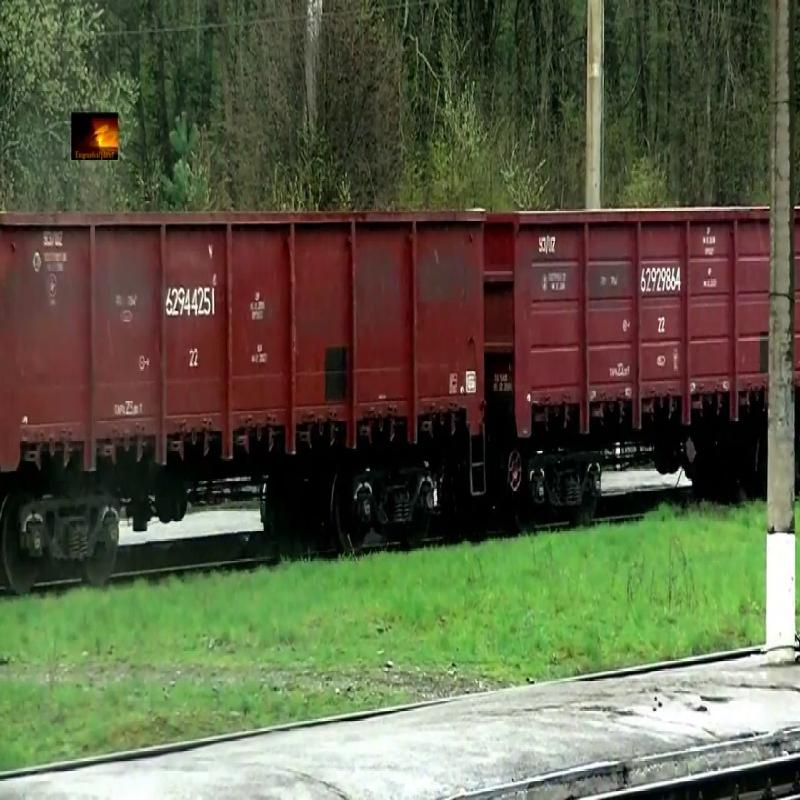train: (1, 207, 490, 471), (489, 207, 772, 442)
